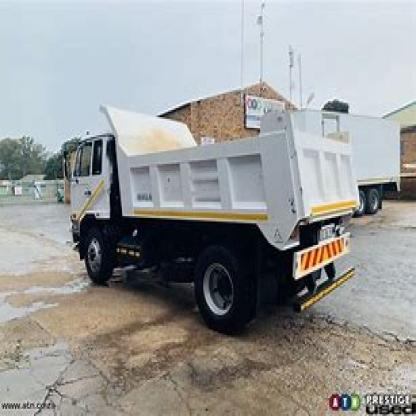dump_truck: (55, 96, 370, 350)
